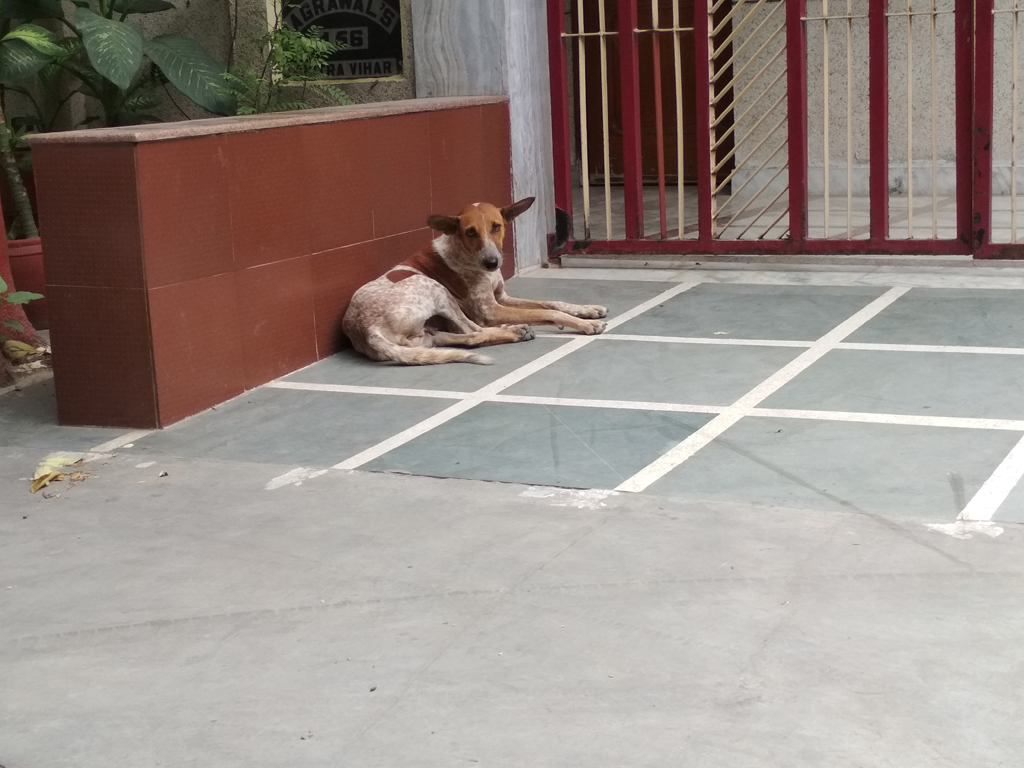dog: (342, 197, 608, 365)
